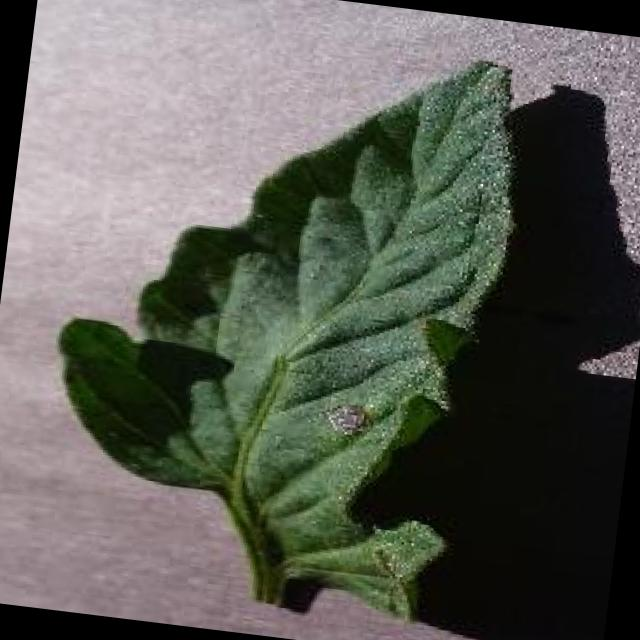Tomato_Early_Blight: (270, 315, 476, 607)
